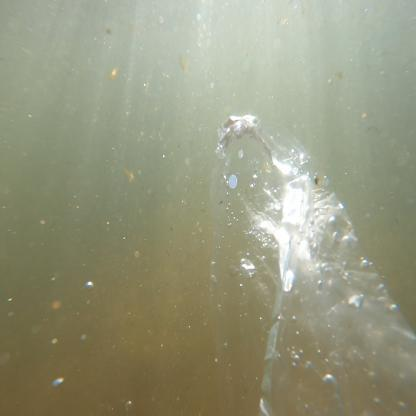Rác: (221, 119, 411, 403)
